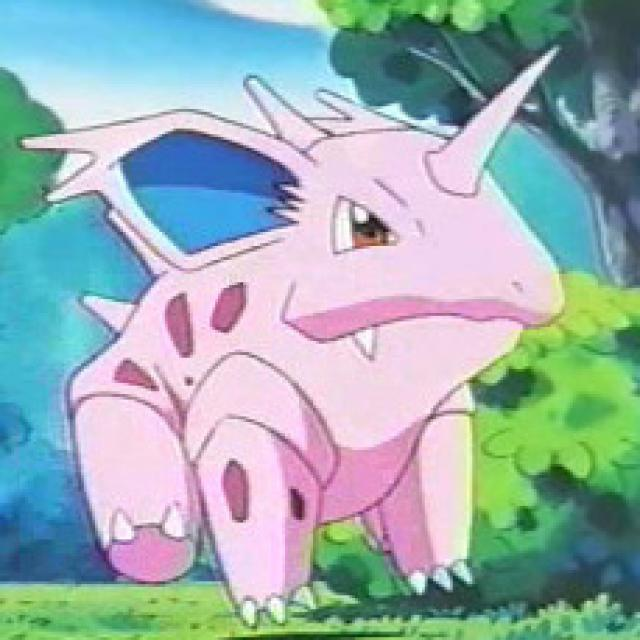Nidorino: (33, 93, 577, 627)
